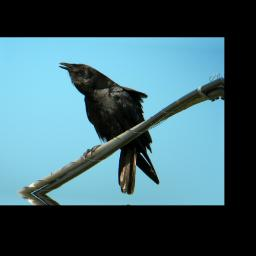Crow: (47, 60, 170, 198)
